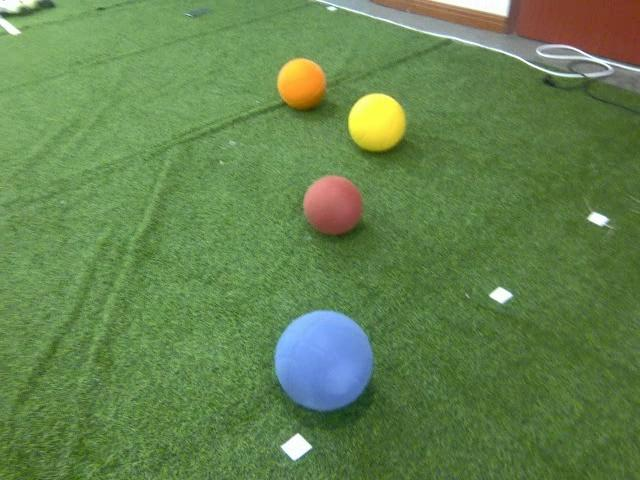blue_ball: (273, 310, 374, 416)
orange_ball: (276, 56, 328, 111)
red_ball: (301, 175, 364, 238)
yellow_ball: (348, 93, 408, 155)
